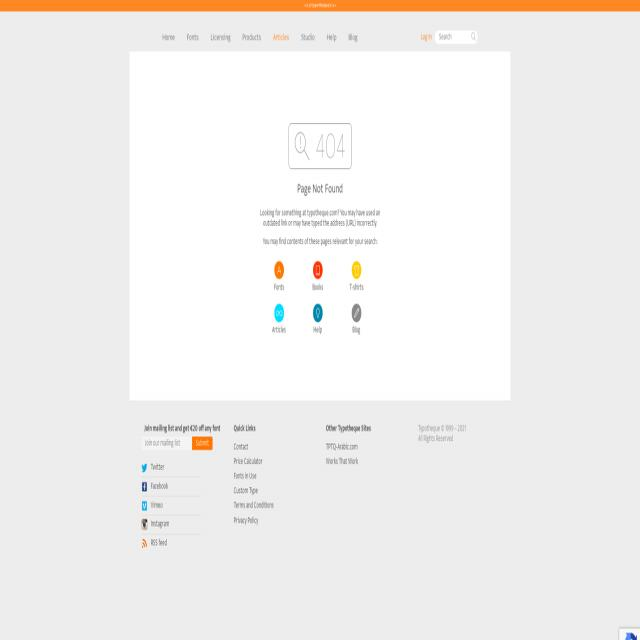button: (289, 122, 352, 170), (204, 22, 237, 52), (237, 22, 267, 52), (267, 22, 295, 52), (295, 22, 321, 52), (156, 22, 181, 52), (181, 22, 205, 52), (321, 22, 342, 52), (342, 22, 363, 52), (192, 436, 212, 450), (304, 1, 336, 9), (470, 30, 478, 44), (276, 308, 282, 320), (142, 462, 148, 474), (142, 519, 148, 530), (276, 265, 282, 276), (315, 265, 321, 276), (315, 308, 321, 319), (142, 481, 148, 492), (142, 500, 148, 511), (142, 538, 148, 549), (471, 31, 476, 43), (354, 265, 359, 276), (354, 308, 359, 319)
field: (142, 436, 192, 450), (434, 30, 478, 44)
